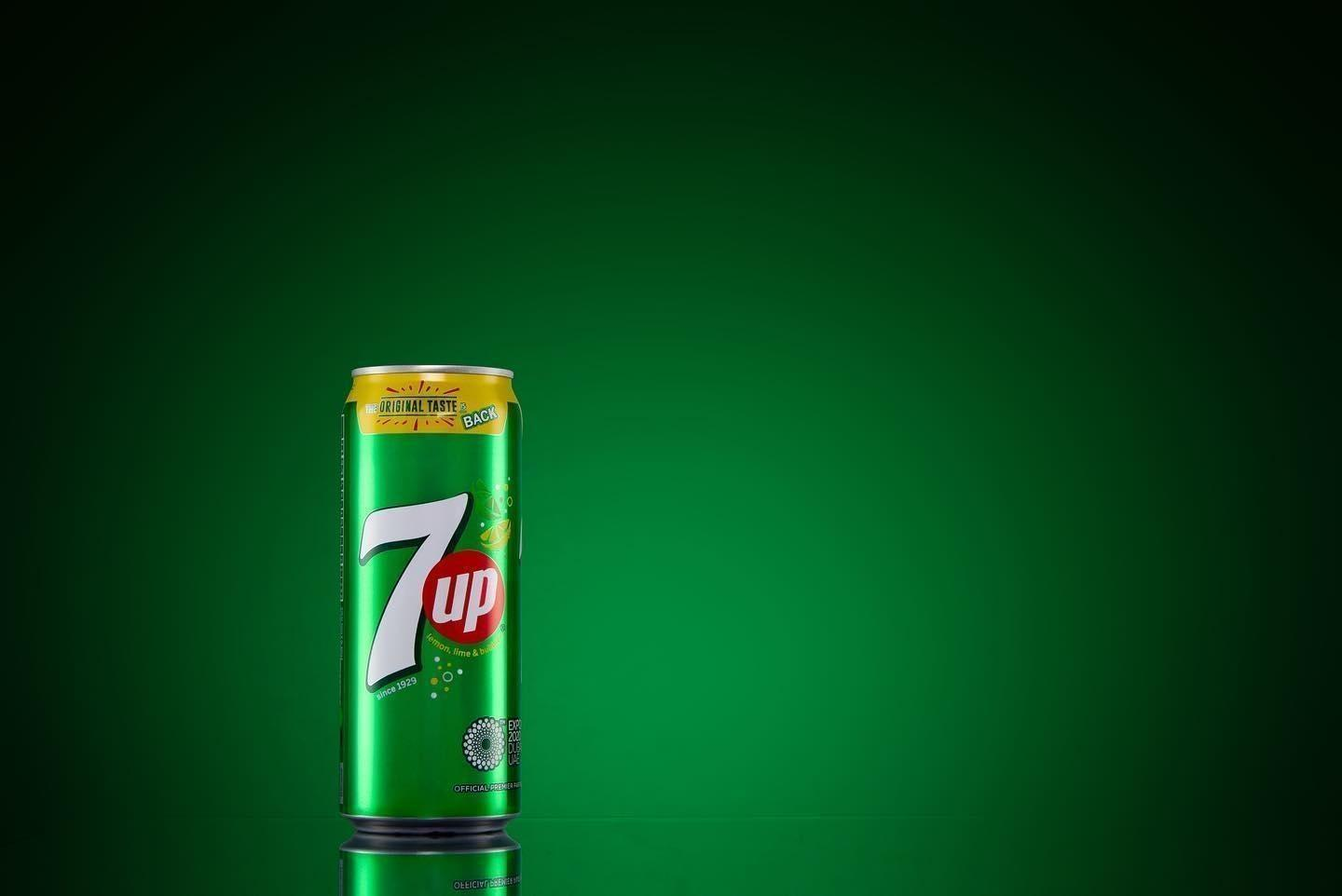tin can: (333, 355, 530, 855)
